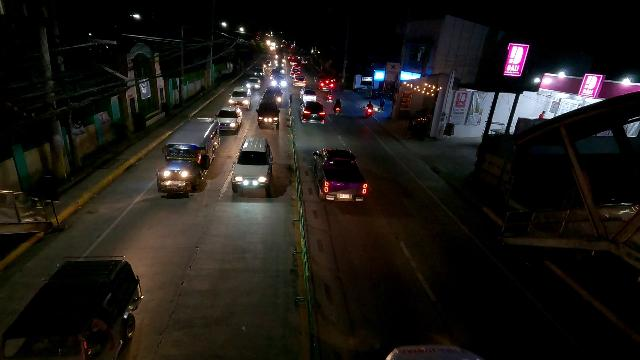car: (229, 137, 274, 196), (216, 106, 244, 132), (299, 100, 326, 125), (229, 86, 252, 109), (262, 85, 283, 110), (299, 87, 317, 102), (318, 78, 334, 92), (245, 77, 261, 90), (292, 75, 307, 88), (271, 74, 285, 85), (290, 67, 301, 78), (254, 67, 265, 78), (270, 69, 281, 79), (291, 64, 302, 71)
jeepney: (156, 116, 221, 194)
motorcycle: (333, 97, 341, 119), (366, 101, 374, 116), (326, 92, 334, 104)
pickup-truck: (312, 150, 368, 203)
van: (256, 92, 280, 129)
